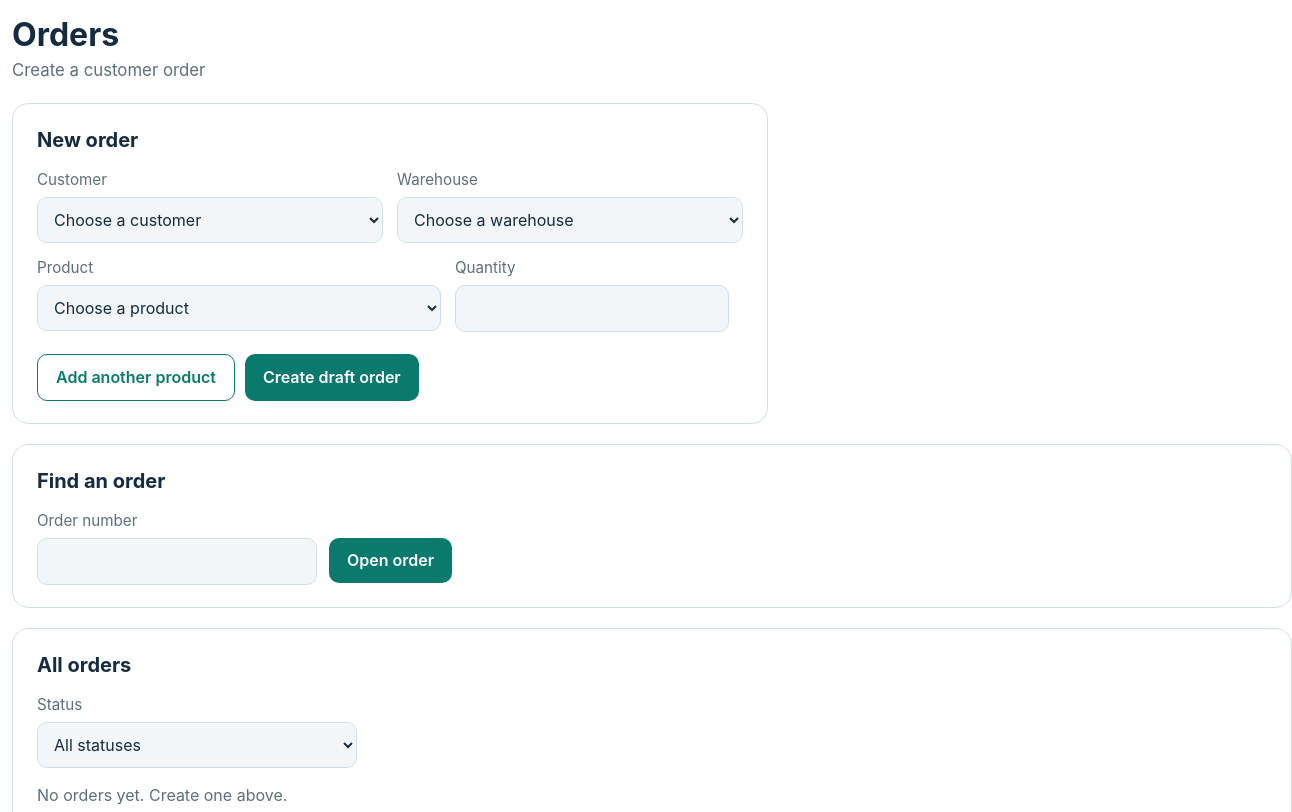
Scenario: OrdersPage new order form › removes a line when asked
The image size is (1292, 812).
Select "Amelia Reed" in the dropdown labelled "Customer" at (210, 220), box [37,197,383,243]
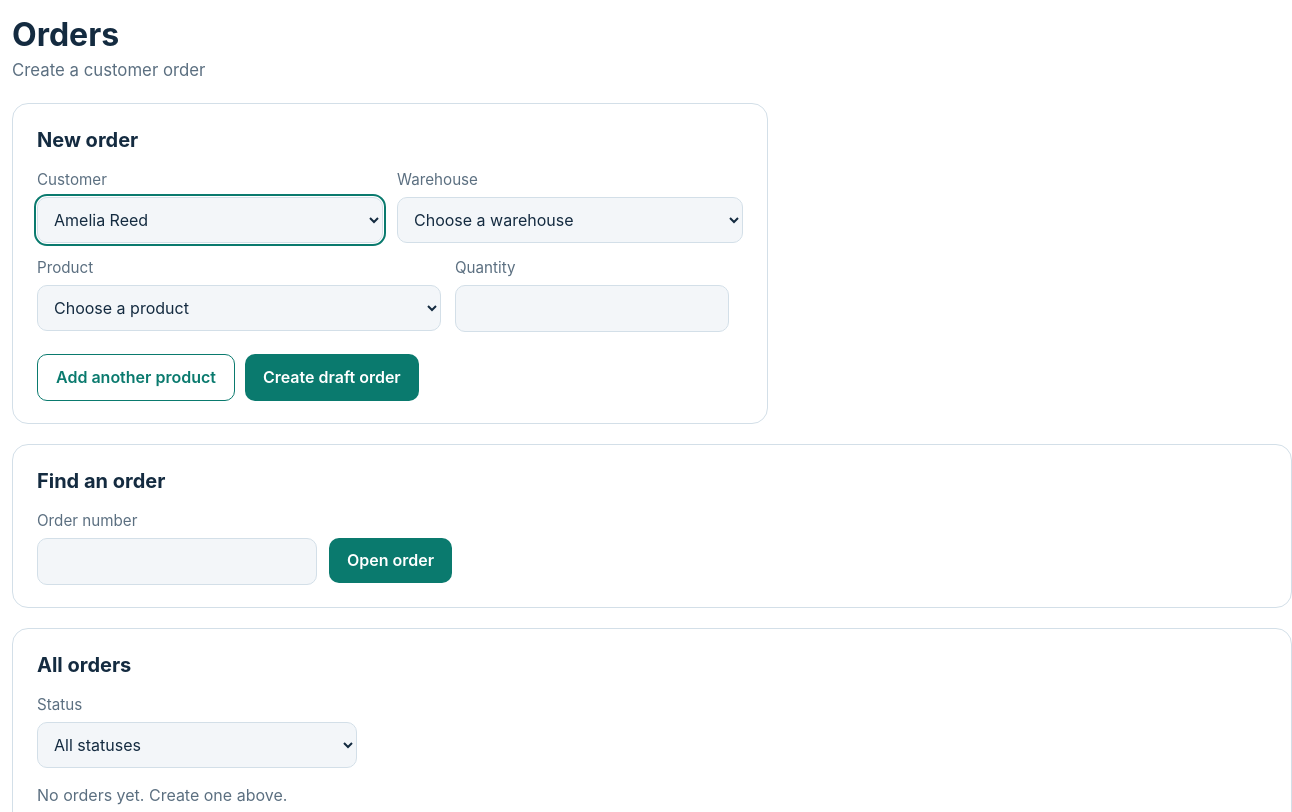
Select "Dallas" in the dropdown labelled "Warehouse" at (570, 220), box [397,197,743,243]
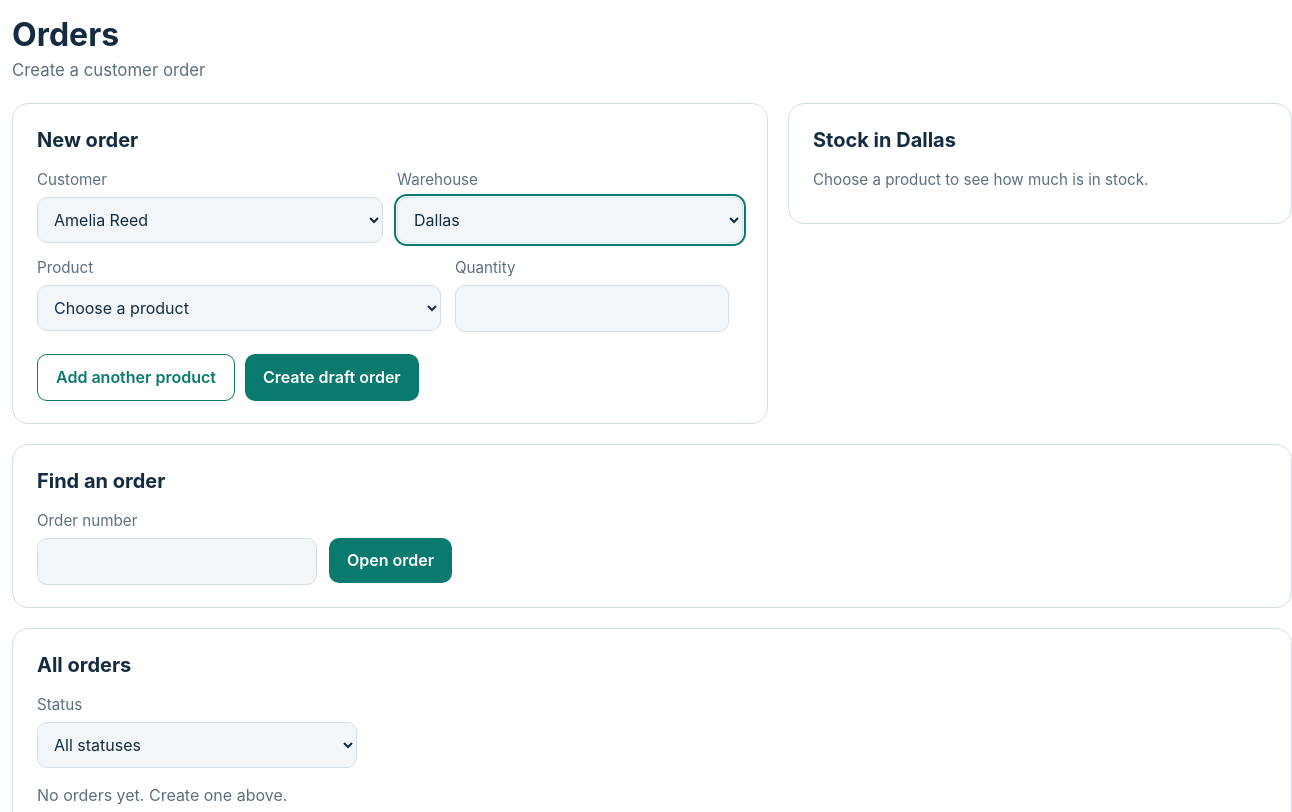
Select "LAP-1 — Laptop Pro 14" in the dropdown labelled "Product" at (239, 308), box [37,285,441,331]
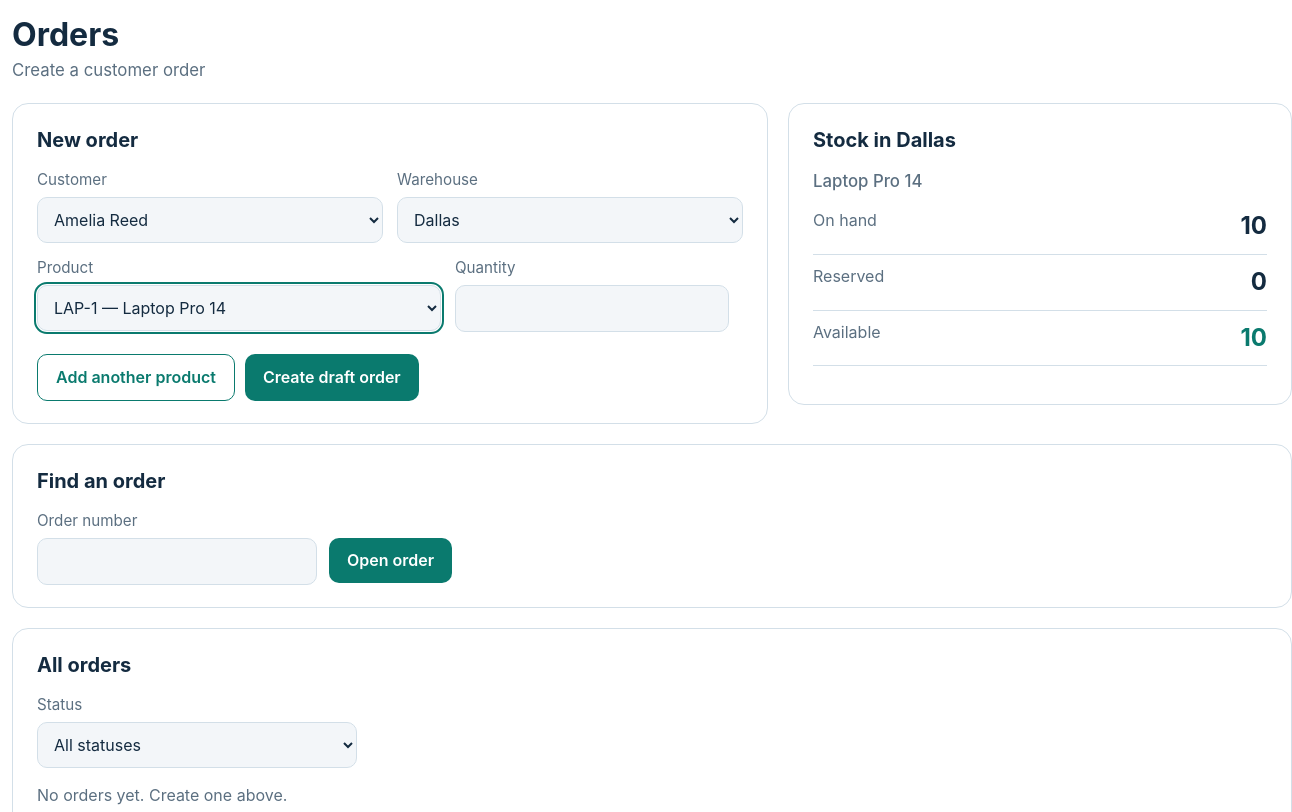
Type "2" into the field labelled "Quantity".
click(592, 308); type("2")  # box [455,285,729,332]
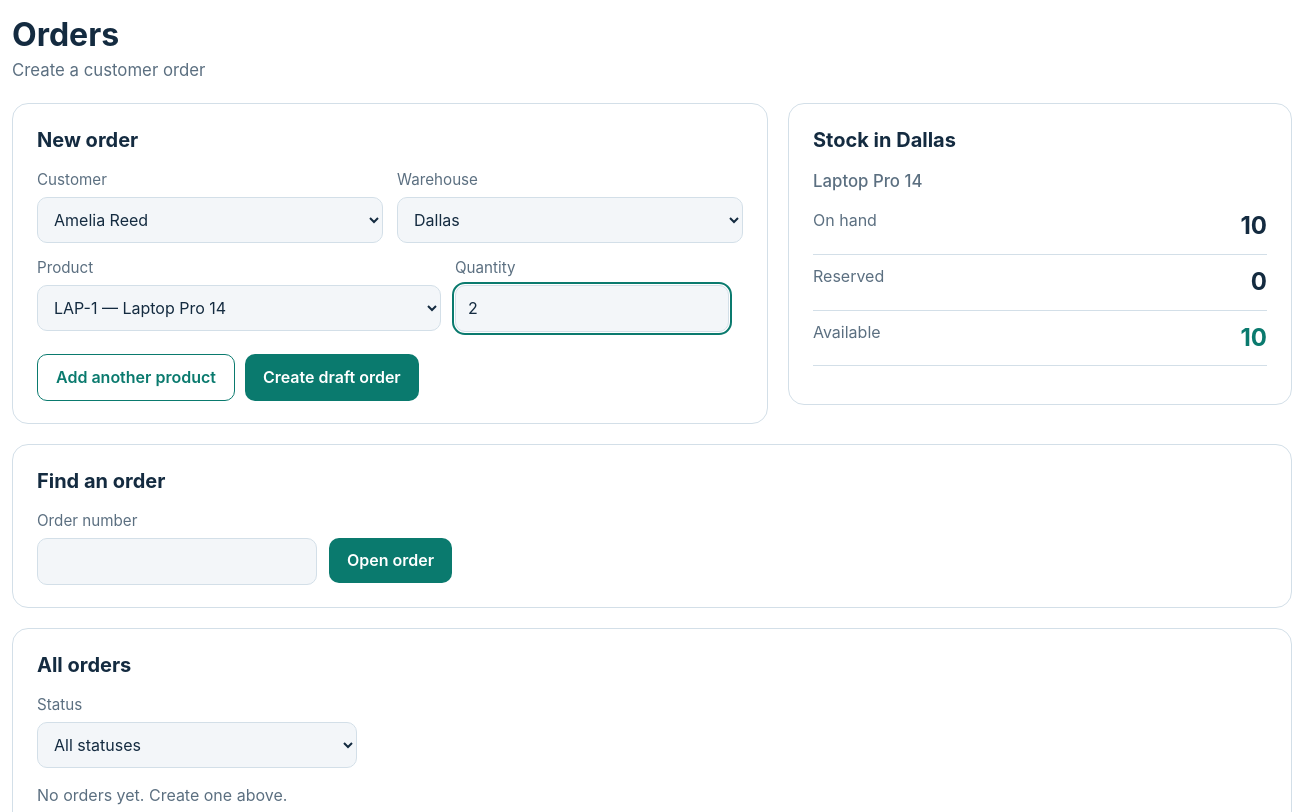
Click the button "Add another product".
click(136, 378)  # box [37,354,235,401]
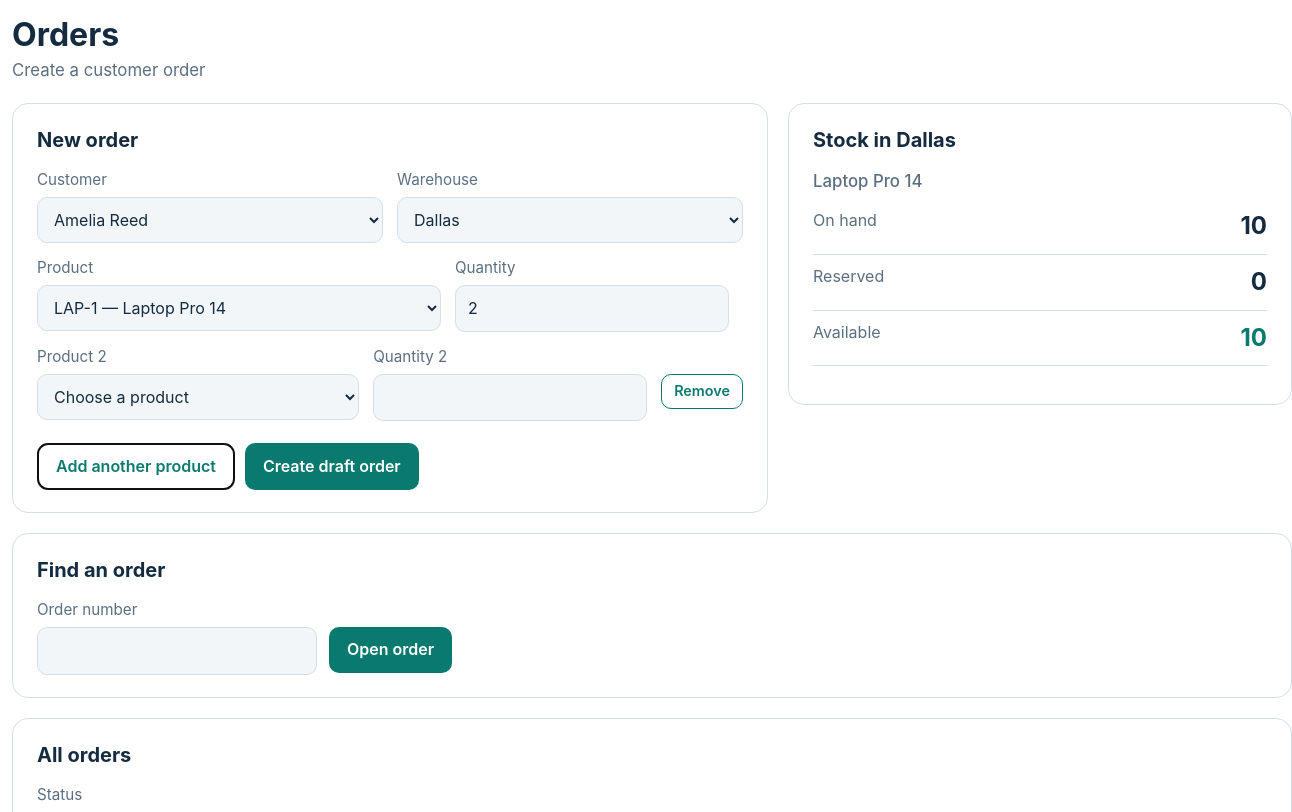
Now the dropdown labelled "Product 2" is shown, box [37,374,359,420]
Click the button with aria-label "Remove product 2".
click(702, 391)  # box [661,374,743,409]
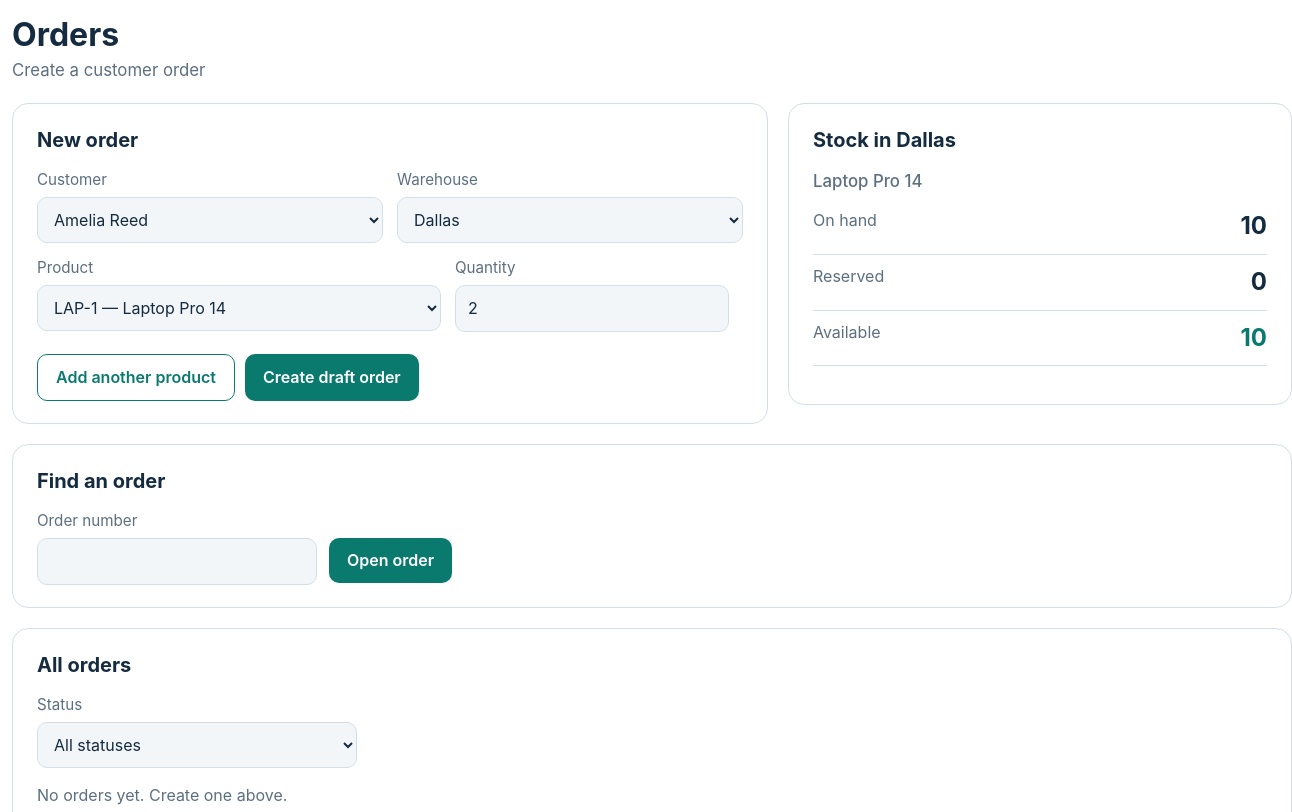
Now the label labelled "Product 2" is gone
